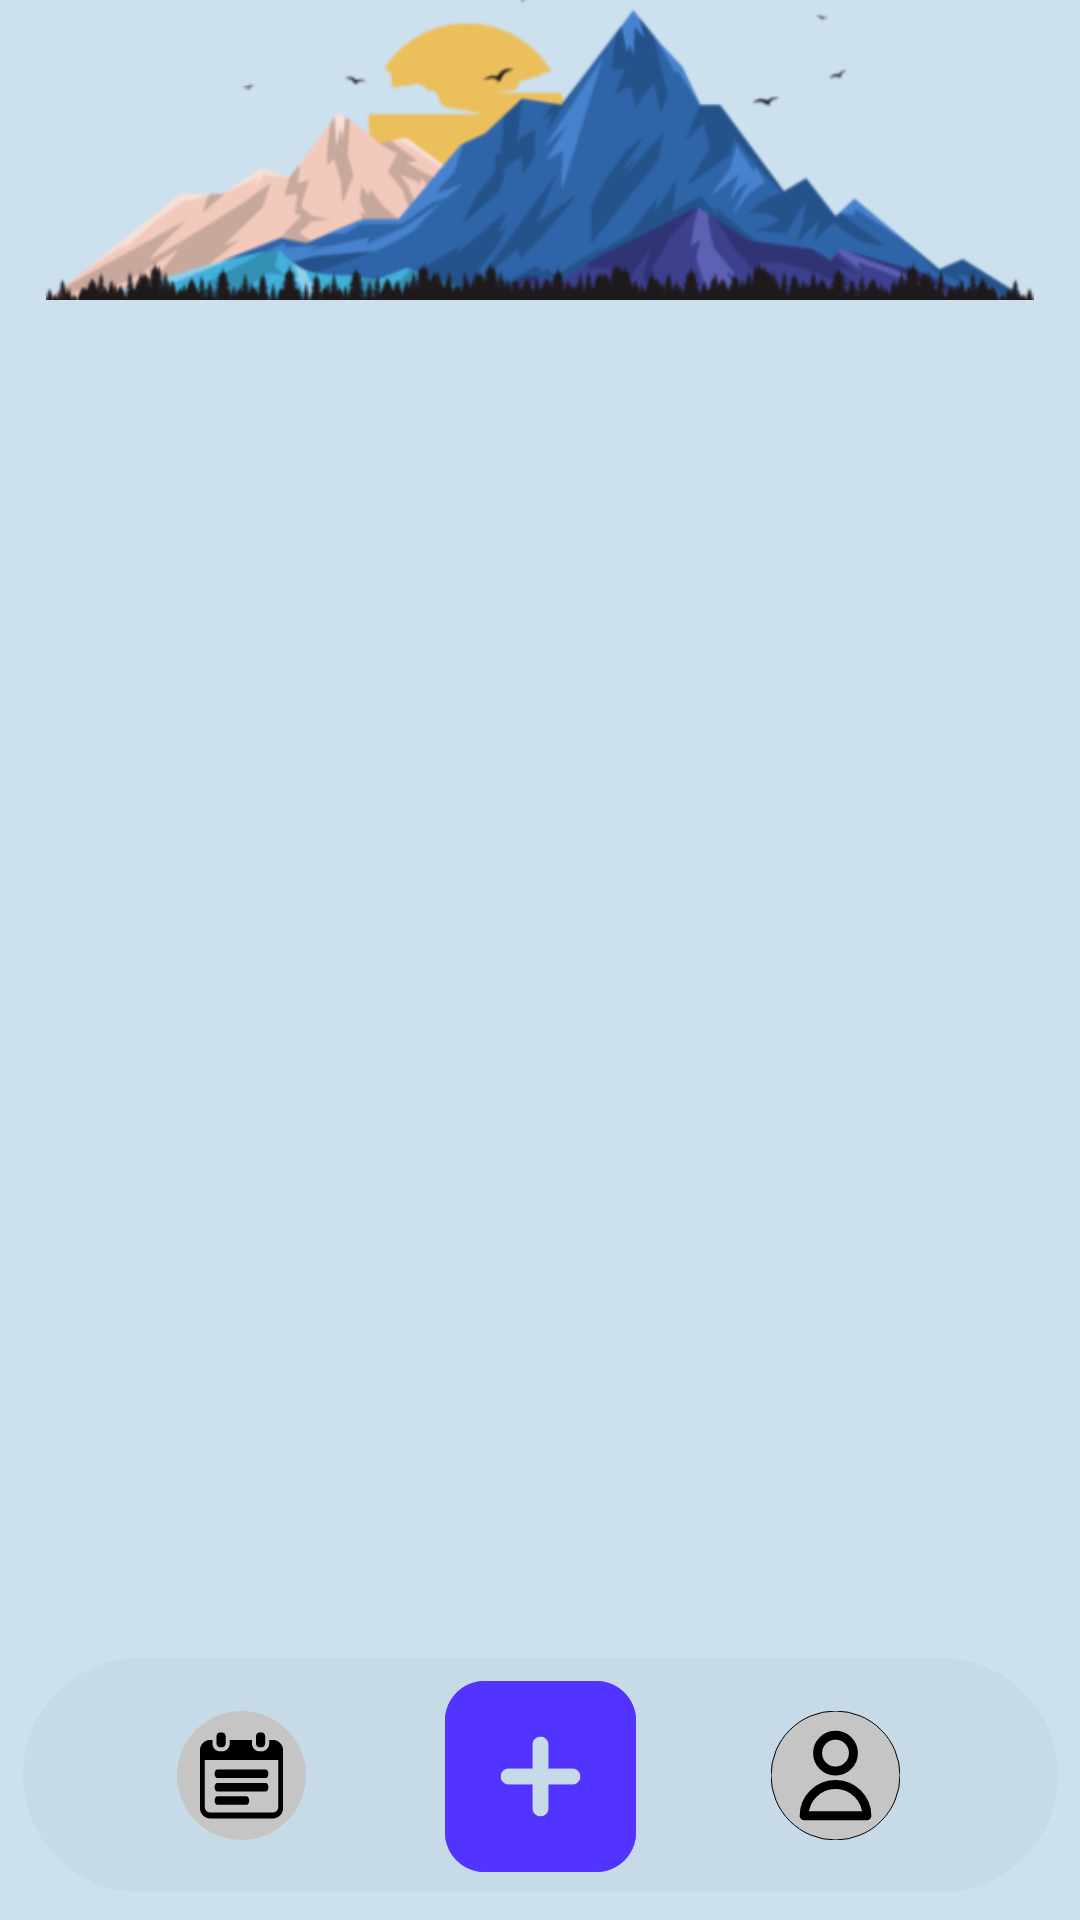

Named icons in this screenshot (1080×1920) and their centers, (x,y):
add: (540,1776)
calender: (241,1775)
userbtn: (835,1775)
